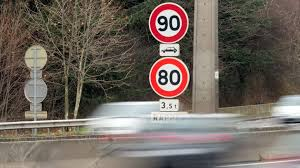Speed_limit_80km: (148, 57, 190, 98)
Speed_limit_90km: (148, 2, 189, 42)
